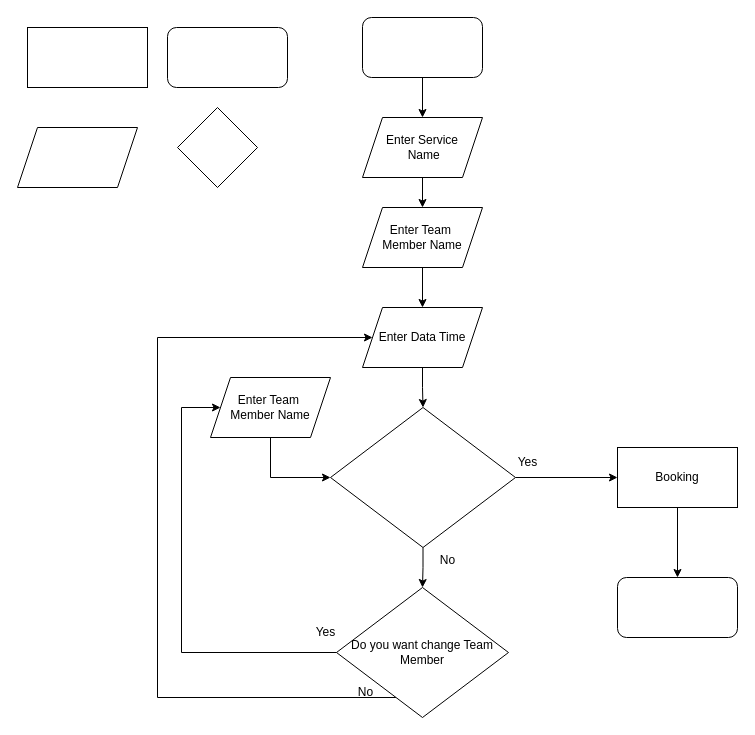
Image size: 755x735. Some labels were removed from this diagram. Each missing label, with the centre of its shape:
End: (677,607)
If The Team Member Available at the selected time: (423,477)
Start: (422,47)
